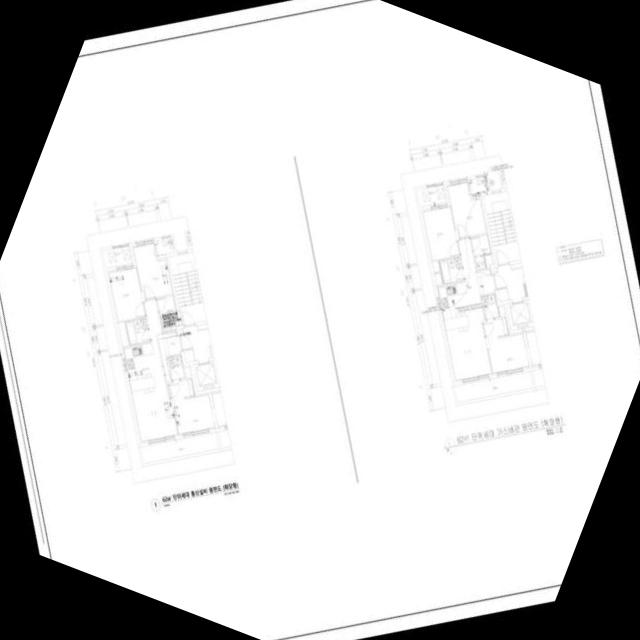background: (0, 0, 640, 640)
space_balconi: (103, 245, 133, 267), (417, 185, 447, 206)
space_bedroom: (169, 378, 215, 436), (483, 317, 529, 375), (131, 240, 174, 298), (445, 179, 488, 237), (421, 204, 459, 260), (107, 265, 145, 321)
space_elevator: (506, 299, 534, 330), (192, 360, 220, 391)
space_elevator_hall: (179, 323, 214, 362), (493, 262, 526, 302)
space_front: (476, 268, 496, 294), (162, 329, 182, 355)
space_kitchen: (436, 281, 475, 334), (122, 342, 160, 393)
space_living_room: (130, 298, 179, 443), (445, 238, 492, 382)
space_multipurpose_space: (156, 294, 180, 330), (471, 233, 492, 269)
space_other: (117, 321, 129, 346), (431, 260, 442, 285), (485, 252, 494, 267), (498, 305, 505, 316)
space_outdoor_room: (156, 236, 175, 255), (470, 175, 489, 194)
space_staircase: (483, 190, 521, 264), (169, 251, 207, 325)
space_toilet: (125, 317, 150, 345), (439, 256, 464, 283), (167, 354, 192, 380), (481, 293, 499, 319)
